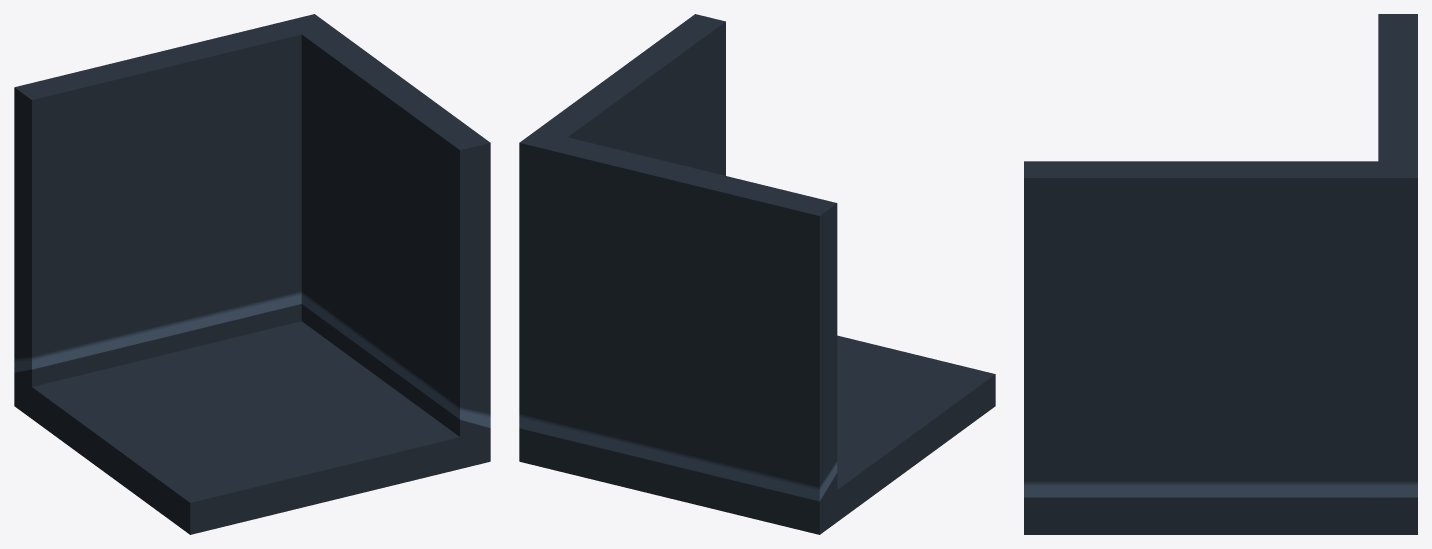
File: Server_Room.glb
The picture shows the model from 3 angles, left to right: view 1: azimuth 30°, elevation 25°; view 2: azimuth 150°, elevation 25°; view 3: azimuth 270°, elevation 25°; orthographic projection. The views are drawn at different scales.
Parts seen in each view (by area): view 1: server_room; view 2: server_room; view 3: server_room.
Part boxes in pixels (x1=…): server_room: x1=14, y1=14, x2=490, y2=534; server_room: x1=519, y1=14, x2=995, y2=534; server_room: x1=1024, y1=14, x2=1417, y2=534.
Bounding box in the file's own units: 3.51 × 3.56 × 3.56.
1 material, 1 textured.
